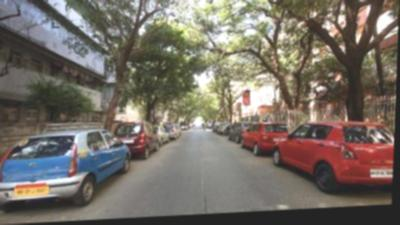License_Plate: (15, 186, 48, 196), (370, 166, 392, 179)
